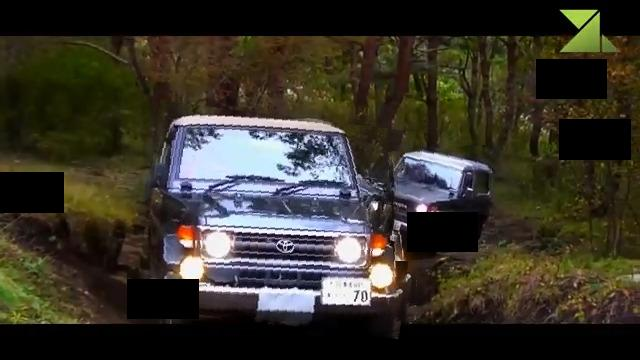MIL_HMMWV: (141, 109, 419, 331), (390, 147, 495, 260)
